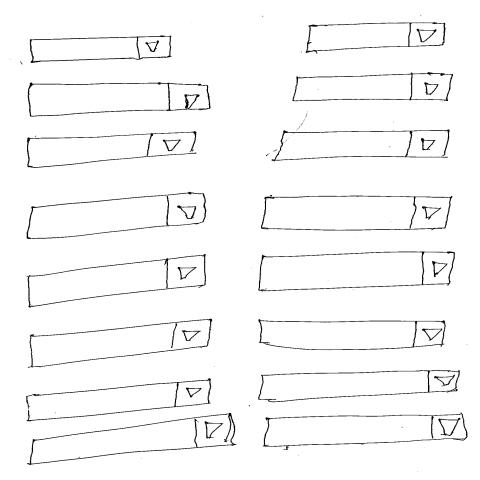Select: (28, 255, 209, 309), (28, 422, 235, 467), (28, 319, 214, 369), (27, 193, 208, 240), (259, 252, 457, 294), (260, 195, 453, 232), (264, 415, 469, 448), (258, 370, 462, 403), (28, 82, 213, 118), (27, 132, 198, 169), (260, 319, 448, 352), (272, 130, 451, 163), (292, 73, 454, 103), (305, 23, 446, 53), (29, 35, 174, 64)
